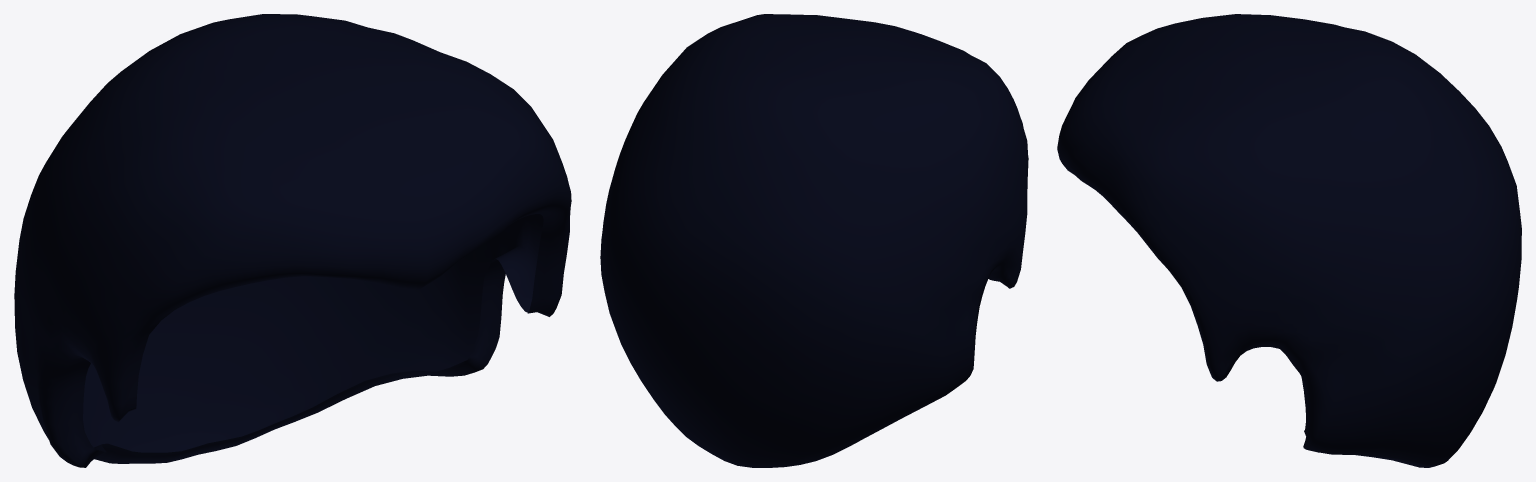
File: hair_thick_buzzcut.glb
The picture shows the model from 3 angles, left to right: view 1: azimuth 30°, elevation 25°; view 2: azimuth 150°, elevation 25°; view 3: azimuth 270°, elevation 25°; orthographic projection. The views are drawn at different scales.
Parts seen in each view (by area): view 1: MaleHair; view 2: MaleHair; view 3: MaleHair.
Part boxes in pixels (<box>): MaleHair: <box>14,14,571,467</box>; MaleHair: <box>600,14,1028,467</box>; MaleHair: <box>1057,14,1521,467</box>.
Size of the model in its own units: 0.354 by 0.3395 by 0.3618.
